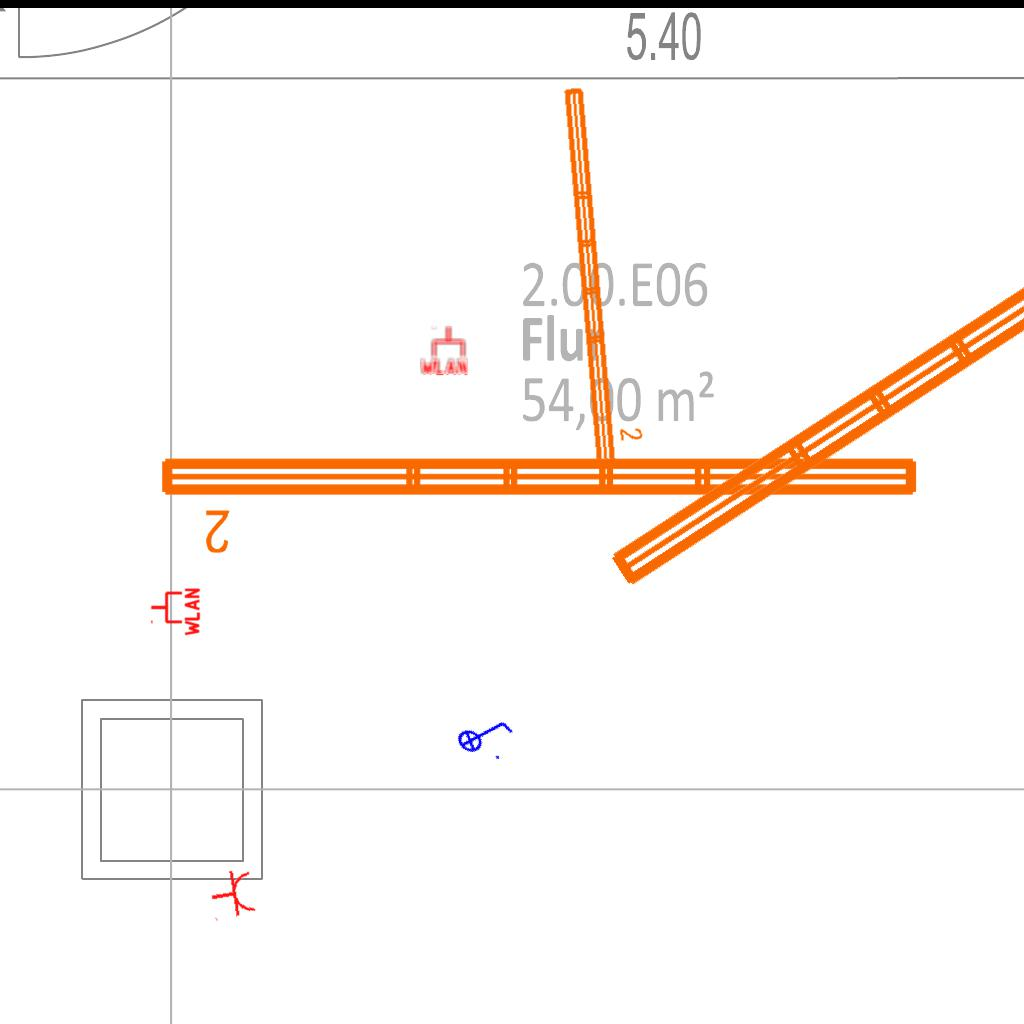Ambulanz_Pendelleuchte_LED: (566, 87, 1024, 603), (153, 446, 927, 558), (557, 79, 648, 471)
Ausschalter_beleuchtet: (447, 699, 521, 769)
Schukosteckdose_einfach: (207, 866, 258, 924)
WLAN: (418, 324, 470, 376), (149, 586, 201, 638)
